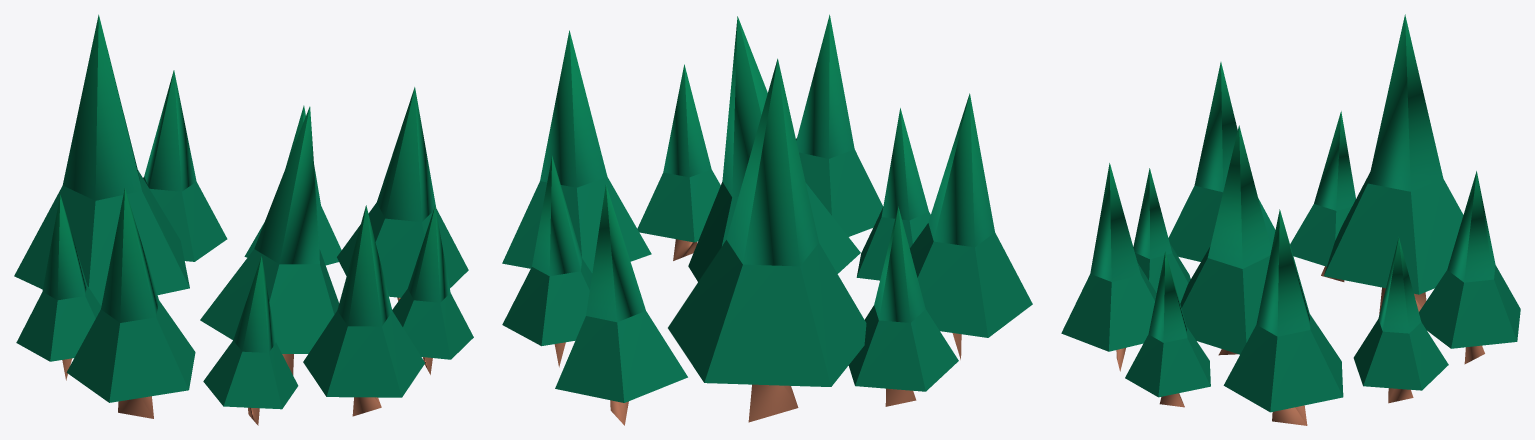
Rendered from trees_medium-mid.glb.
3 views of the same model, side by side, from view 1: azimuth 30°, elevation 25°; view 2: azimuth 150°, elevation 25°; view 3: azimuth 270°, elevation 25° (orthographic). The views are drawn at different scales.
Visible parts, largest first — view 1: trees_A_medium; view 2: trees_A_medium; view 3: trees_A_medium.
Part boxes in pixels (x1,y1,x2,y2): trees_A_medium: (14,14,473,425); trees_A_medium: (502,14,1032,425); trees_A_medium: (1061,14,1520,425).
Size of the model in its own units: 1.75 by 1.3 by 1.81.
Materials: 1 (1 with a texture image).
